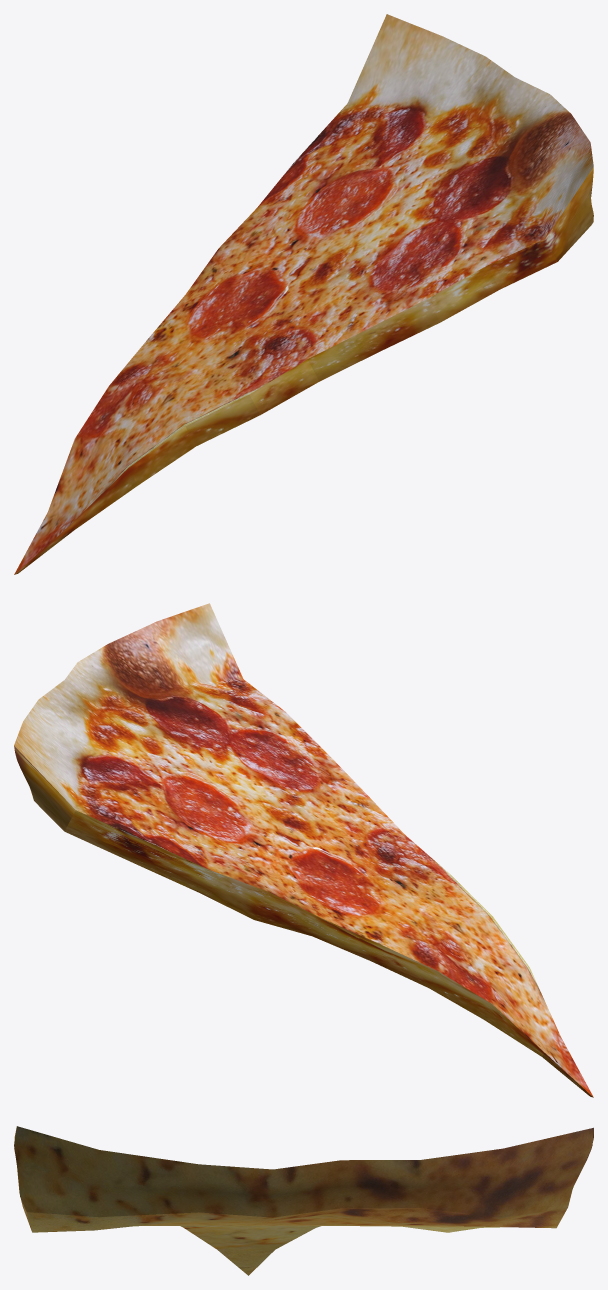
The model's file is glitchpizza.fbx.
3 renders of one model, top to bottom at view 1: azimuth 30°, elevation 25°; view 2: azimuth 150°, elevation 25°; view 3: azimuth 270°, elevation 25°, orthographic. The views are drawn at different scales.
Parts seen in each view (by area): view 1: pizza; view 2: pizza; view 3: pizza.
Part boxes in pixels (<box>): pizza: <box>14,14,593,574</box>; pizza: <box>14,603,593,1097</box>; pizza: <box>14,1126,593,1275</box>.
Size of the model in its own units: 305 by 186 by 203.
